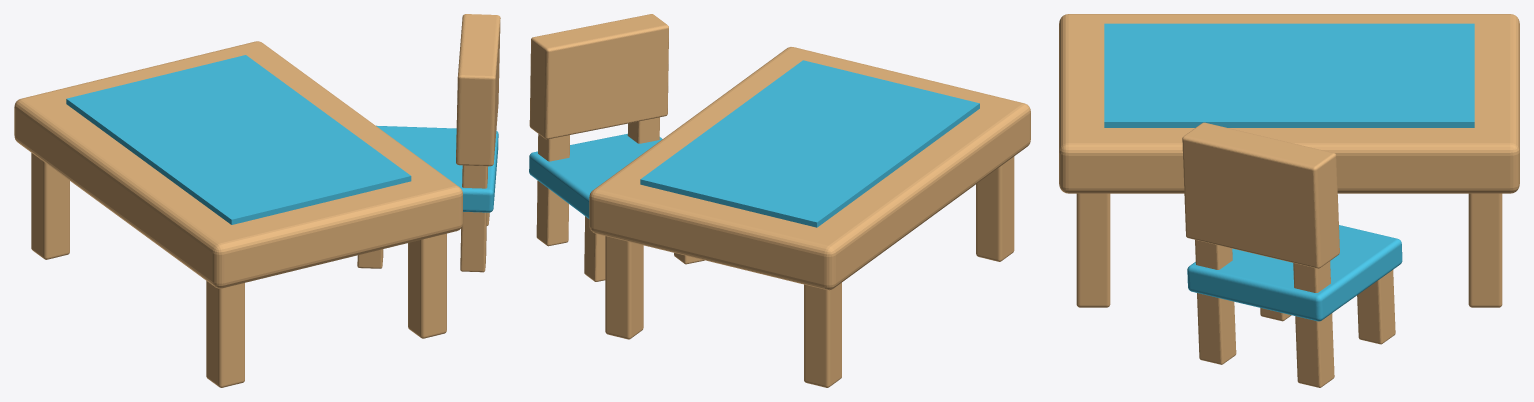
3 renders of one model, left to right at view 1: azimuth 30°, elevation 25°; view 2: azimuth 150°, elevation 25°; view 3: azimuth 270°, elevation 25°, orthographic. The views are drawn at different scales.
Parts seen in each view (by area): view 1: Cube, Cube.006, Cube.002, Cube.001, Cube.005, Cube.004, Cube.007, Cube.009; view 2: Cube, Cube.006, Cube.005, Cube.003, Cube.004, Cube.002, Cube.008, Cube.010, Cube.007; view 3: Cube, Cube.006, Cube.005, Cube.001, Cube.003, Cube.008, Cube.007, Cube.010.
Boxes of the visible parts, x1,y1,x2,y2 form: Cube: [14, 41, 462, 288]; Cube.006: [456, 14, 500, 166]; Cube.002: [206, 281, 244, 387]; Cube.001: [408, 233, 446, 338]; Cube.005: [376, 125, 498, 212]; Cube.004: [31, 153, 69, 259]; Cube.007: [460, 165, 488, 272]; Cube.009: [357, 249, 383, 268]; Cube: [589, 47, 1030, 290]; Cube.006: [529, 14, 668, 139]; Cube.005: [529, 133, 662, 218]; Cube.003: [605, 236, 643, 339]; Cube.004: [804, 282, 841, 387]; Cube.002: [976, 156, 1014, 261]; Cube.008: [536, 134, 569, 246]; Cube.010: [584, 216, 605, 281]; Cube.007: [627, 117, 659, 143]; Cube: [1059, 14, 1519, 193]; Cube.006: [1182, 122, 1339, 268]; Cube.005: [1187, 225, 1402, 321]; Cube.001: [1076, 193, 1110, 307]; Cube.003: [1468, 193, 1502, 307]; Cube.008: [1293, 261, 1334, 387]; Cube.007: [1195, 240, 1236, 364]; Cube.010: [1357, 270, 1395, 344].
Size of what is drawn, in the model's own units: 3.18 by 1.57 by 2.86.
